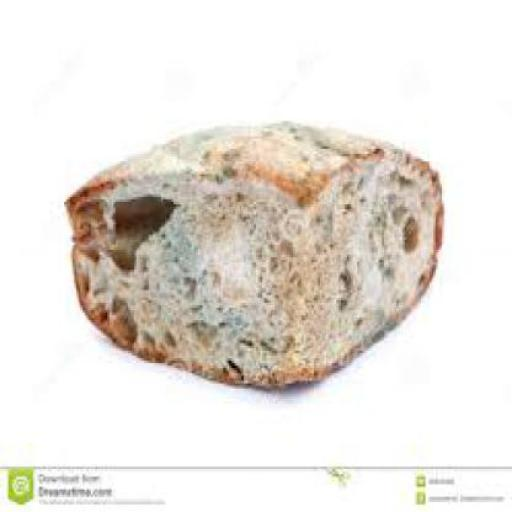biodegradable: (64, 119, 442, 383)
